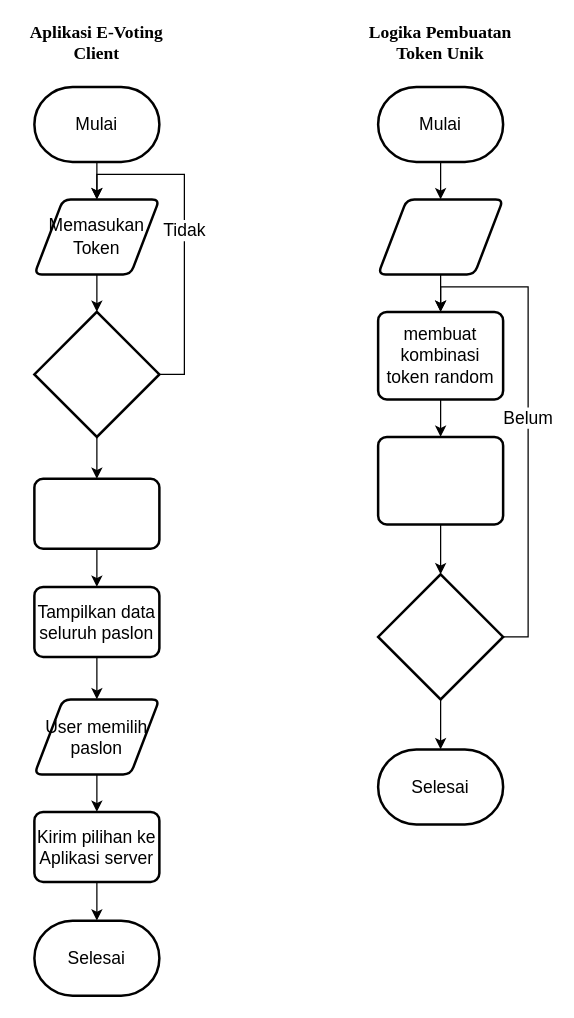
Image size: 574x1018. Some labels were removed from this diagram. Each missing label, with the box of its shape:
Ambil data dari Paslon: (32, 477, 160, 549)
Jumlah token sudah terpenuhi ?: (376, 572, 504, 700)
Memasukan jumlah token yang ingin dibuat: (376, 198, 504, 275)
Memasukan kombinasi token ke database: (376, 435, 504, 525)
Token ada atau Belum terpakai ?: (32, 310, 160, 438)
